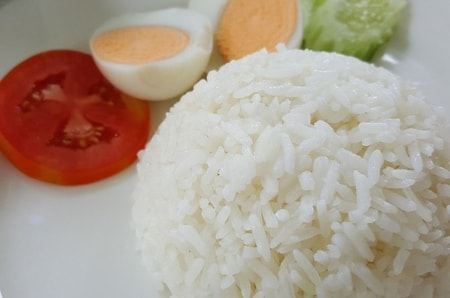Nasi Putih: (64, 50, 449, 296)
